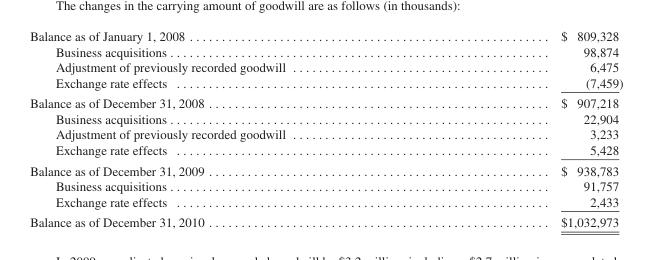table: (29, 28, 622, 229)
table column: (29, 28, 422, 229), (422, 28, 622, 229)
table row: (29, 74, 622, 92), (29, 92, 622, 110), (29, 141, 622, 159), (29, 159, 622, 177), (29, 193, 622, 211), (29, 211, 622, 229), (29, 43, 622, 59), (29, 110, 622, 126), (29, 177, 622, 193), (29, 28, 622, 43), (29, 59, 622, 74), (29, 126, 622, 141)
